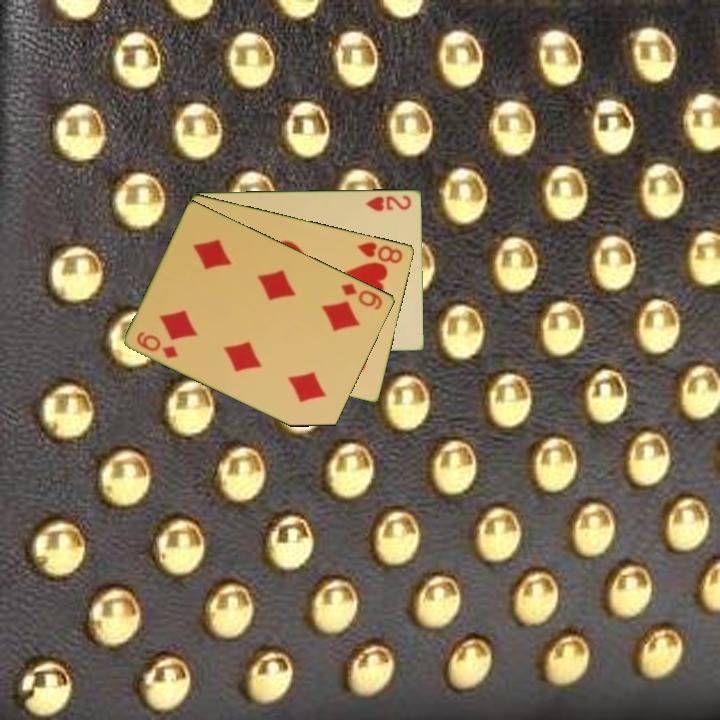2h: (362, 192, 414, 214)
6d: (337, 279, 386, 312), (133, 328, 182, 361)
8h: (353, 238, 406, 266)
